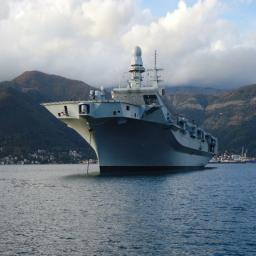Portanaves: (40, 45, 220, 178)
